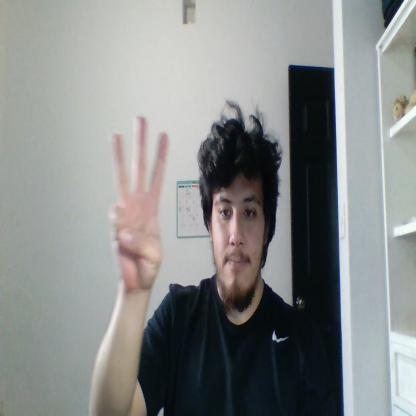W: (108, 115, 168, 291)
